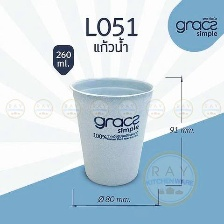paper_cup: (65, 74, 158, 190)
